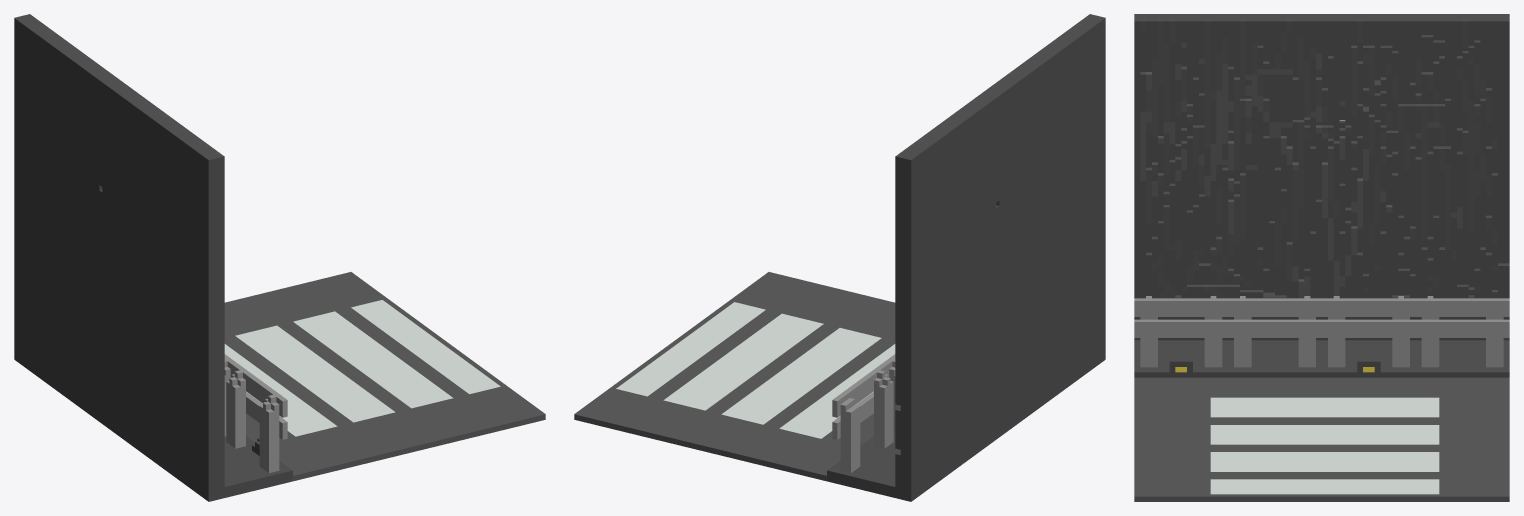
File: Tutorialmap_V2_unfinished-6.obj
3 views of the same model, side by side, from view 1: azimuth 30°, elevation 25°; view 2: azimuth 150°, elevation 25°; view 3: azimuth 270°, elevation 25° (orthographic). The views are drawn at different scales.
Size of the model in its own units: 6.4 by 6.2 by 6.4.
Materials: 1 (1 with a texture image).
